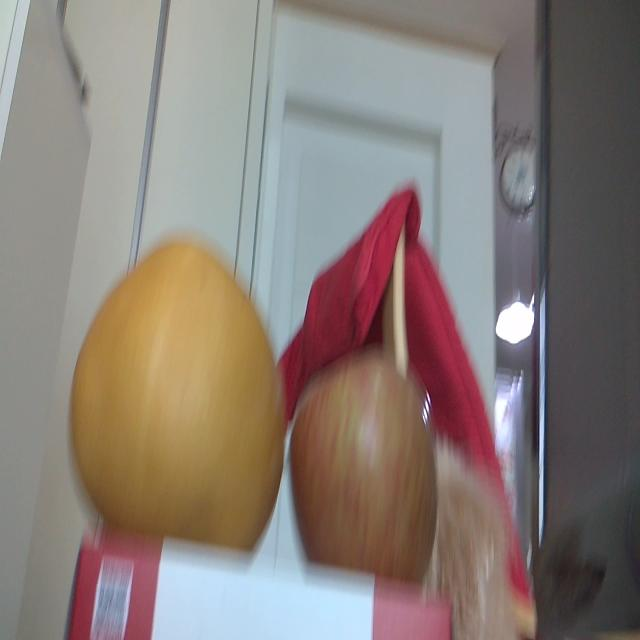apple: (289, 346, 437, 596)
pear: (67, 238, 285, 558)
